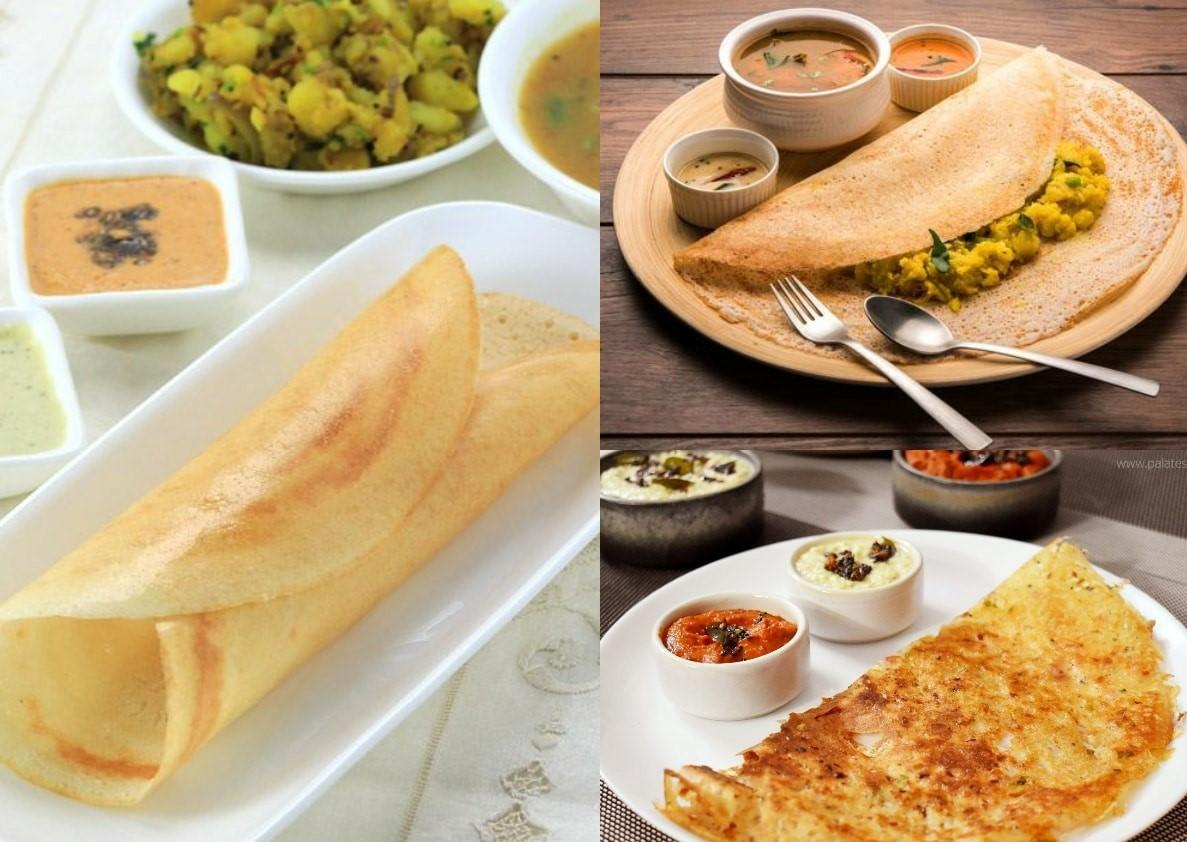CoconutChutney: (3, 318, 67, 458), (600, 450, 754, 503), (797, 536, 914, 591), (677, 150, 768, 190)
Dosa: (7, 248, 598, 810), (675, 44, 1180, 362), (657, 538, 1177, 842)
